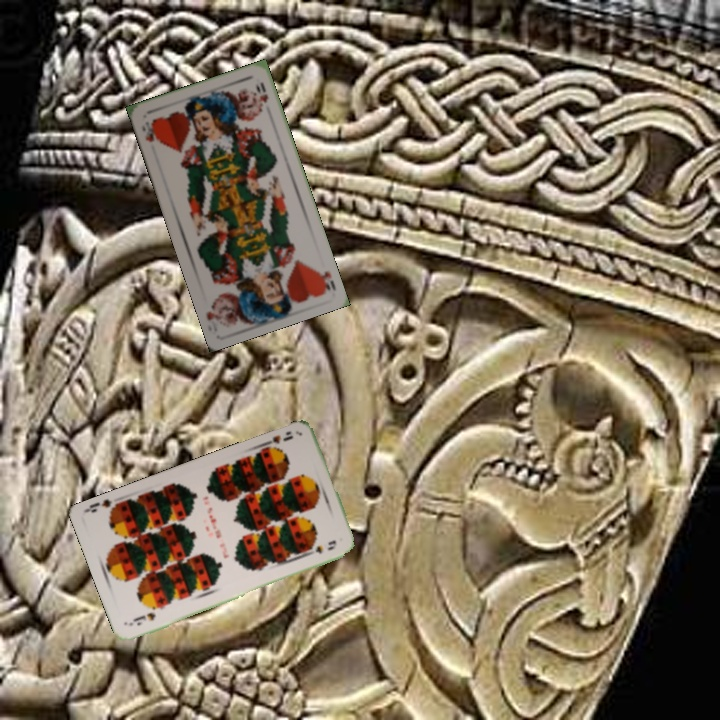HO: (312, 265, 338, 293), (137, 115, 161, 144)
S9: (259, 431, 296, 455), (133, 609, 158, 628)
